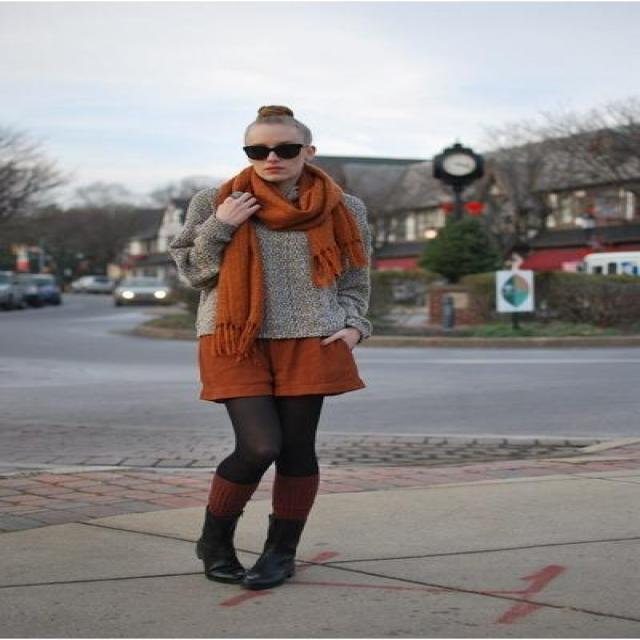jacket: (160, 188, 402, 342)
shoe: (192, 534, 294, 590)
shorts: (198, 333, 364, 400)
sunglass: (244, 143, 286, 160)
